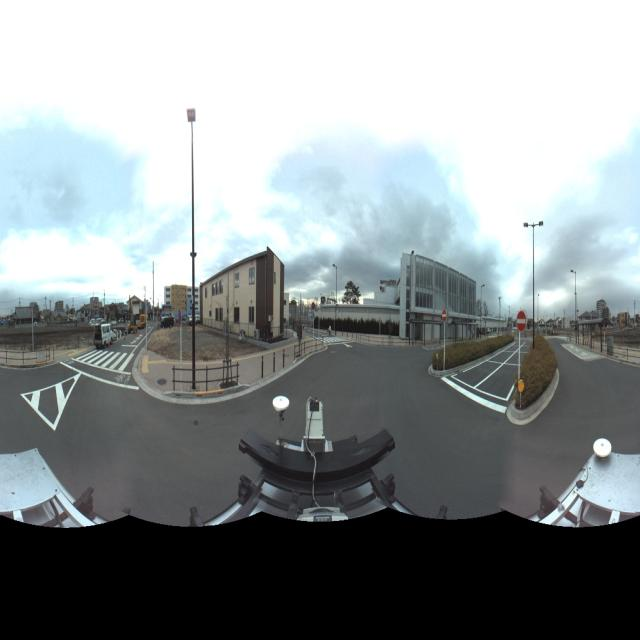b_1: (200, 244, 286, 354), (397, 248, 479, 342), (160, 282, 202, 330), (596, 298, 609, 337)
